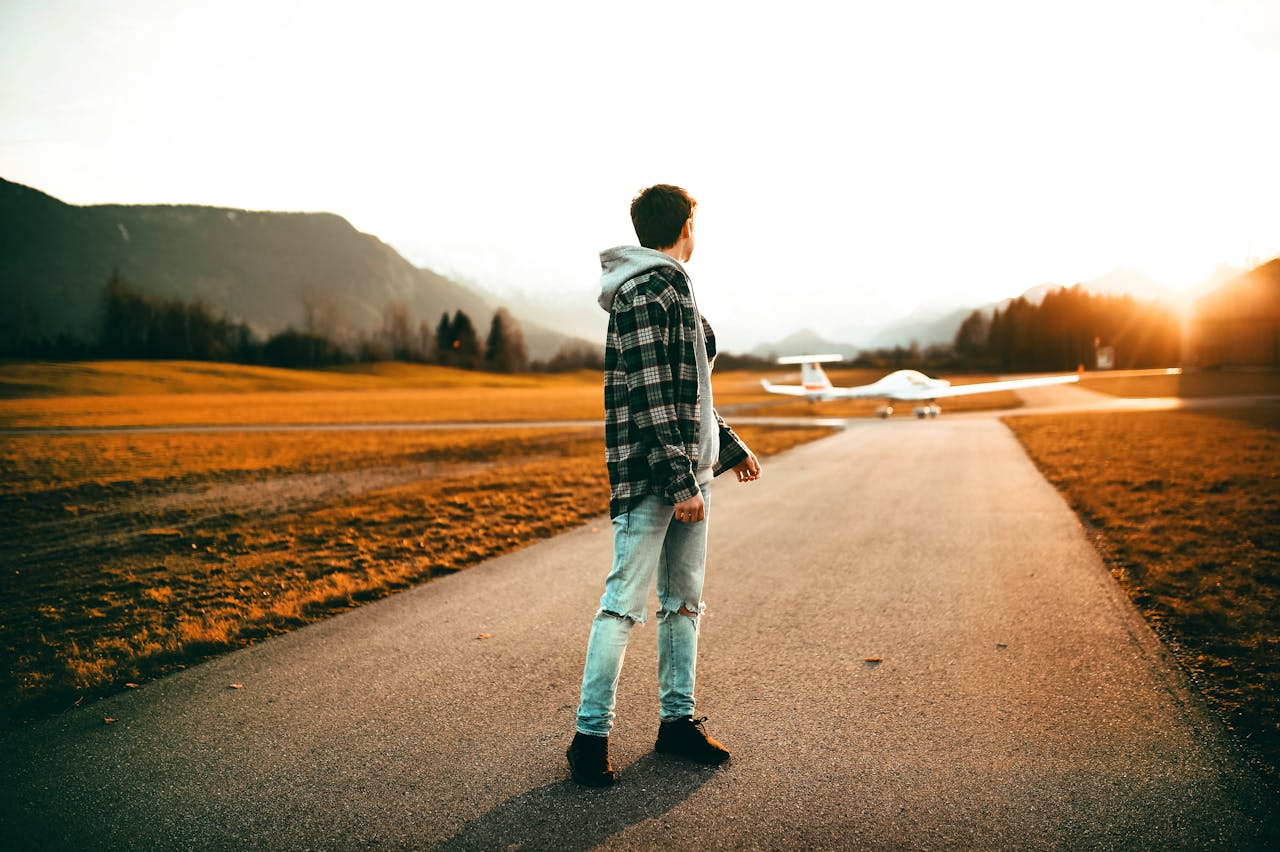person: (568, 144, 765, 795)
